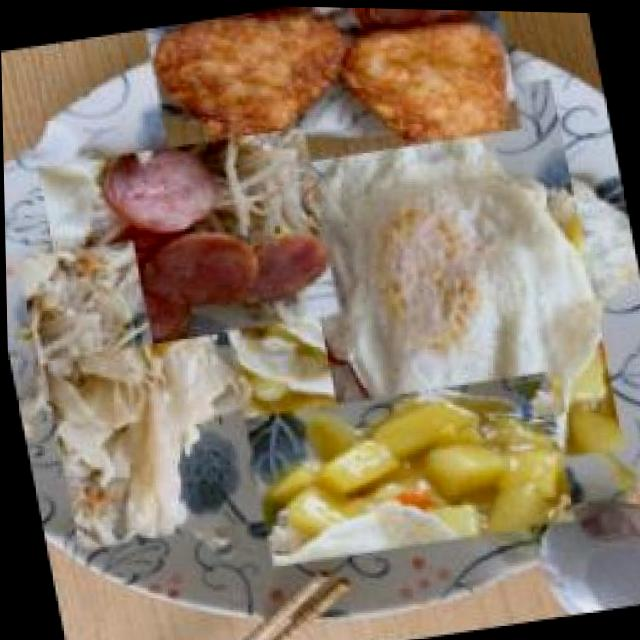chinese_cabbage: (39, 329, 266, 552)
chinese_sausage: (35, 121, 342, 361)
curry: (244, 364, 578, 573)
fried_eggs: (259, 91, 640, 476)
mung_bean_sprouts: (17, 240, 163, 411)
rice: (514, 374, 568, 425)
triangle_hash_brown: (145, 3, 526, 187)
